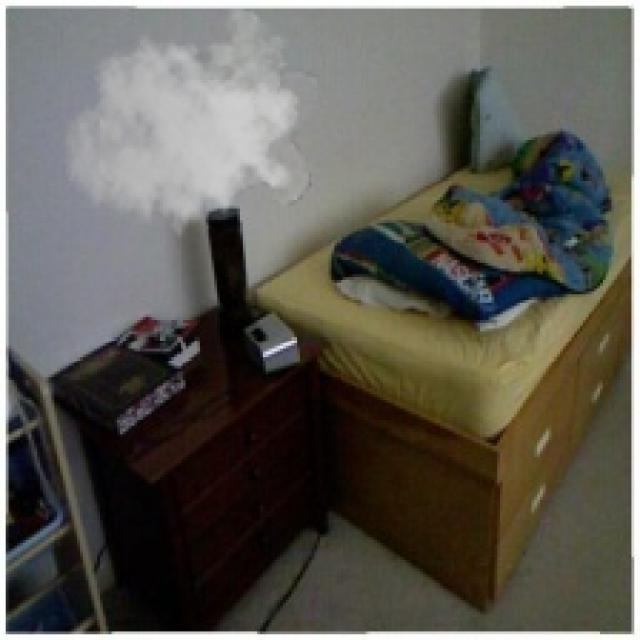smoke: (63, 8, 317, 248)
